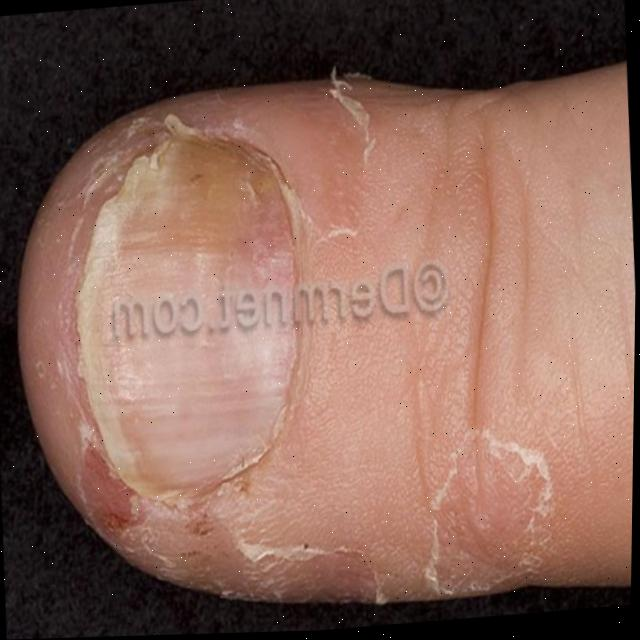Eczema: (39, 56, 576, 636)
